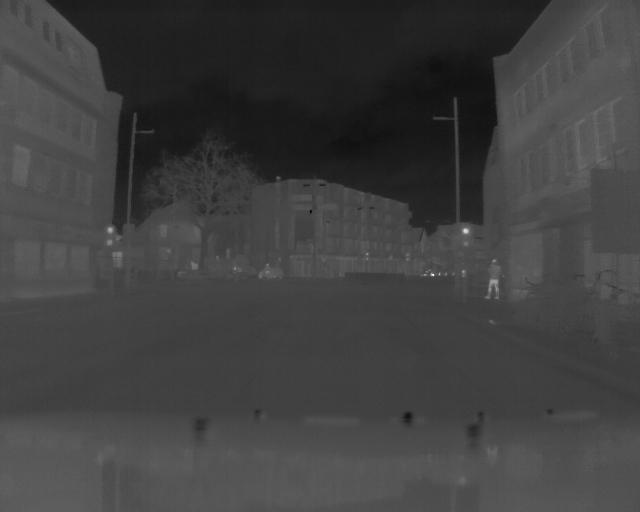car: (259, 263, 286, 280)
person: (484, 257, 502, 302)
